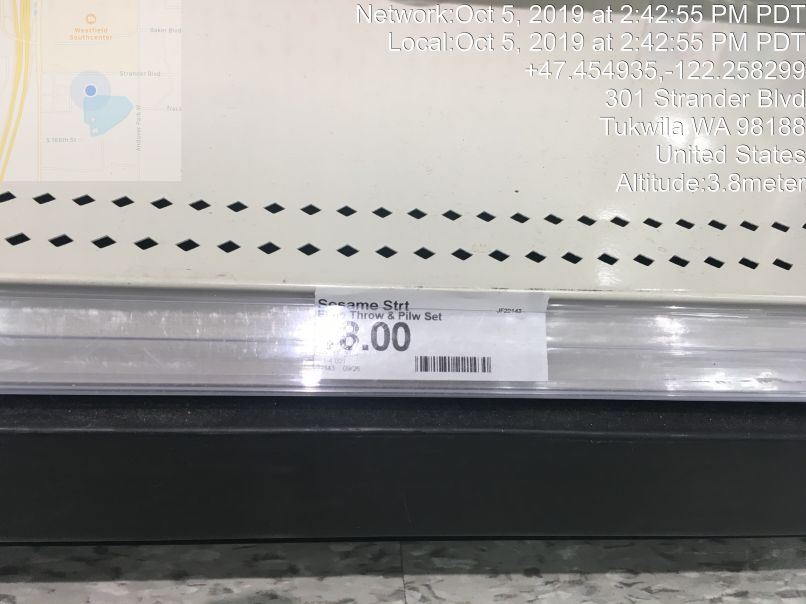Label: (301, 280, 558, 390)
Location: (592, 84, 806, 171)
Time: (352, 1, 806, 58)
Void: (12, 5, 782, 276)
